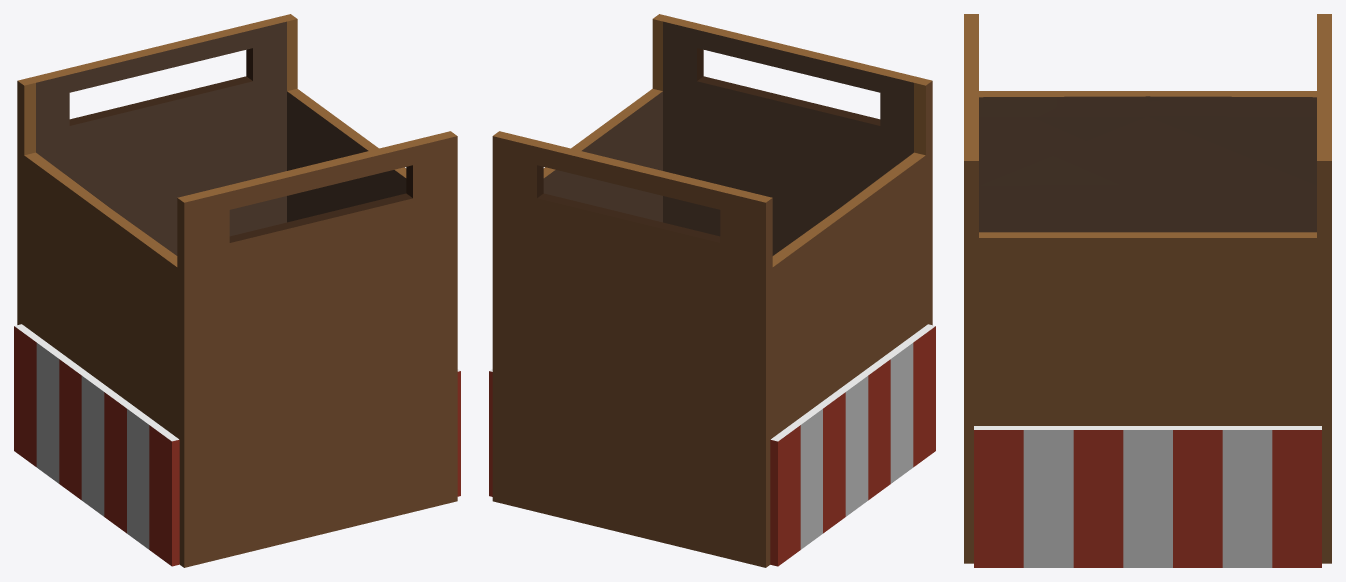
The model's file is Package5.fbx.
3 views of the same model, side by side, from view 1: azimuth 30°, elevation 25°; view 2: azimuth 150°, elevation 25°; view 3: azimuth 270°, elevation 25° (orthographic). The views are drawn at different scales.
Parts seen in each view (by area): view 1: takeout_boxcpi, 01_box; view 2: takeout_boxcpi, 01_box; view 3: takeout_boxcpi, 01_box.
Boxes of the visible parts, x1,y1,x2,y2 form: takeout_boxcpi: [17, 14, 457, 567]; 01_box: [14, 324, 460, 566]; takeout_boxcpi: [492, 14, 932, 567]; 01_box: [489, 324, 935, 566]; takeout_boxcpi: [964, 14, 1331, 563]; 01_box: [974, 426, 1321, 567].
Size of the model in its own units: 101 by 122 by 101.
Materials: 2 (2 with a texture image).
